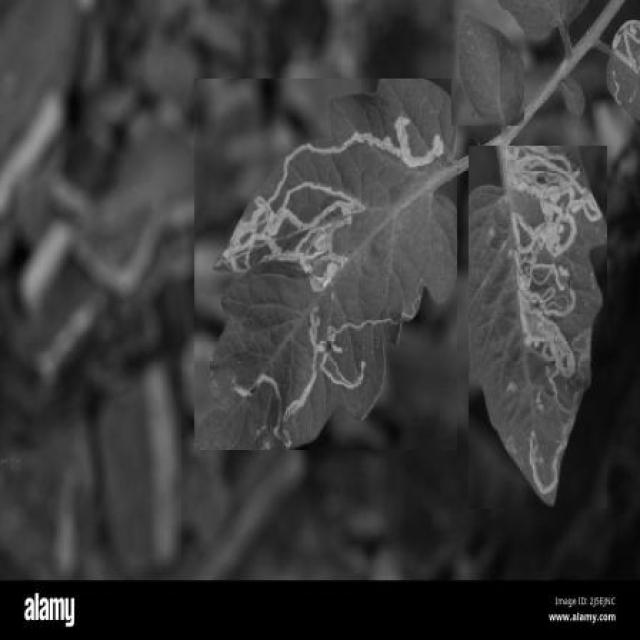Healthy: (452, 10, 524, 126)
Leaf Miner: (194, 79, 457, 450), (469, 146, 607, 508)
